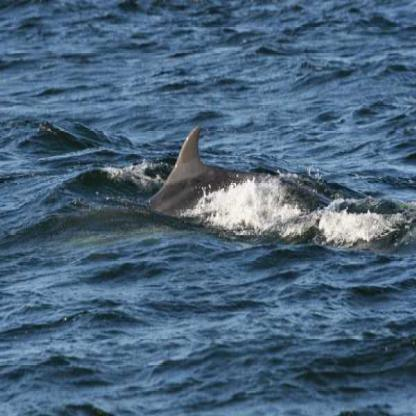dolphin-whale: (132, 116, 367, 232)
